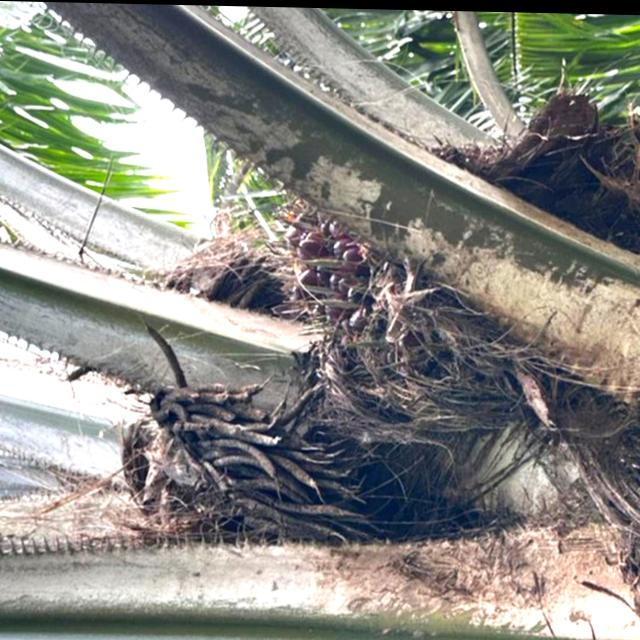ripe: (262, 192, 418, 368)
